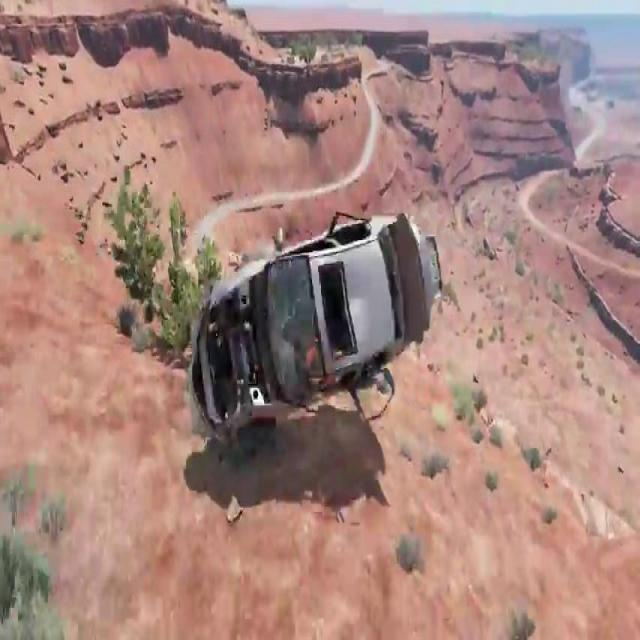accident: (185, 199, 445, 441)
